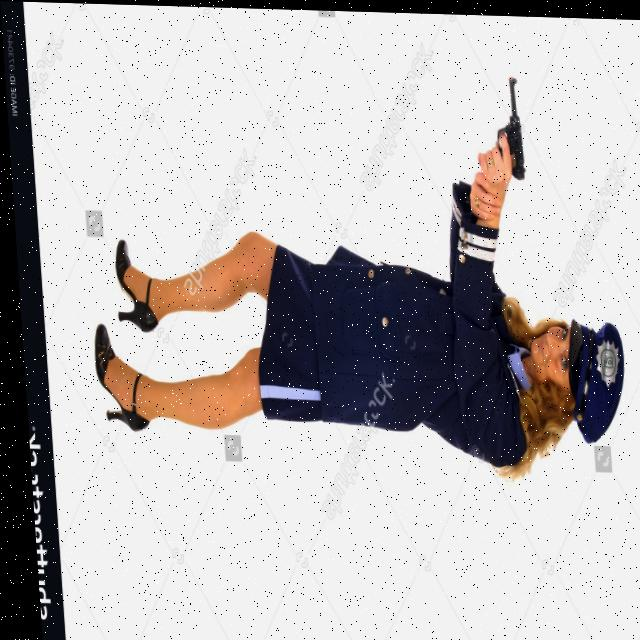pistol: (496, 70, 526, 178)
